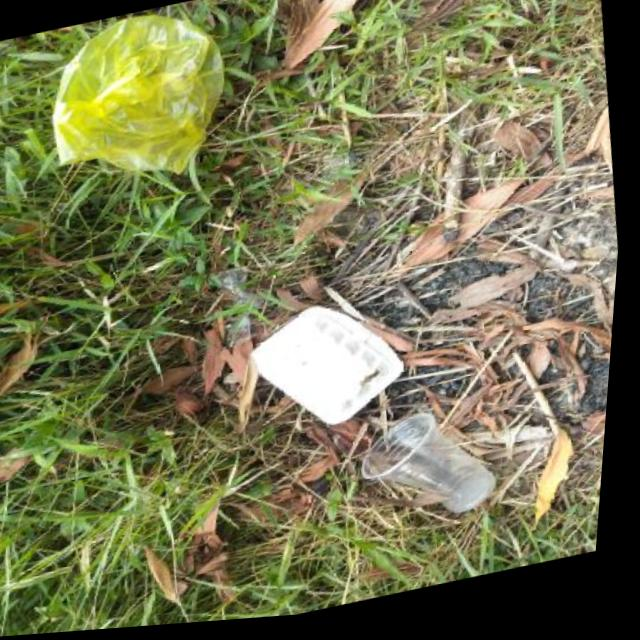foam: (238, 287, 417, 442)
plastic: (33, 0, 246, 203), (350, 396, 507, 535)
